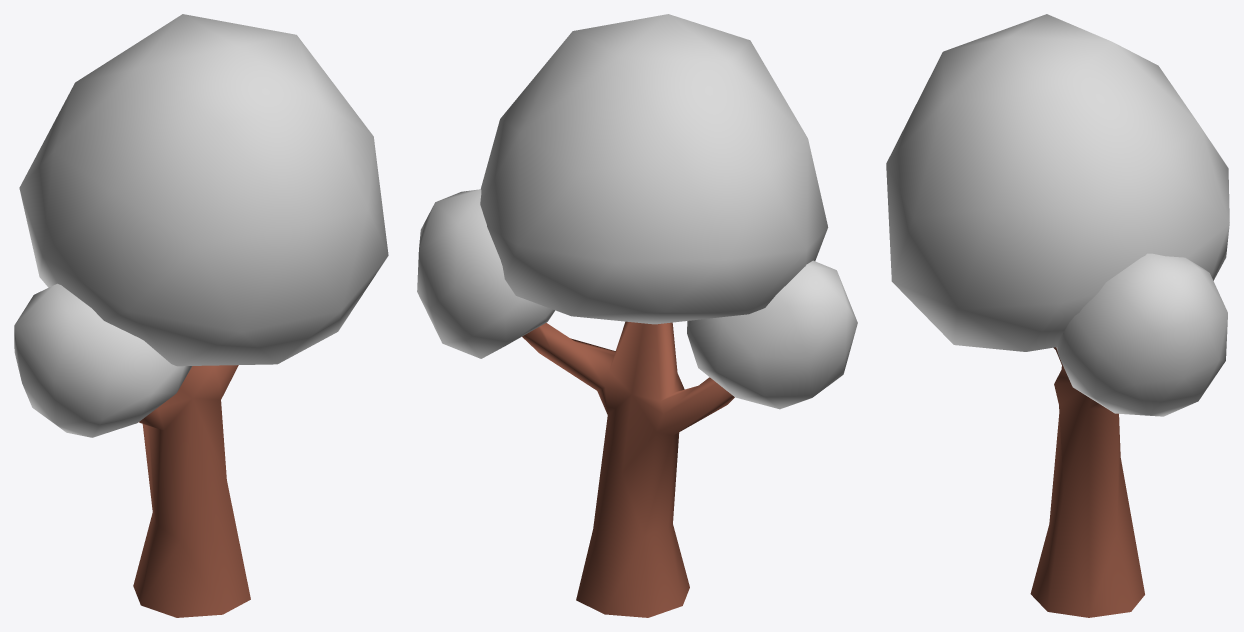
The model's file is detail_treeC.fbx.
3 views of the same model, side by side, from view 1: azimuth 30°, elevation 25°; view 2: azimuth 150°, elevation 25°; view 3: azimuth 270°, elevation 25° (orthographic). The views are drawn at different scales.
Parts seen in each view (by area): view 1: detail_treeC; view 2: detail_treeC; view 3: detail_treeC.
Boxes of the visible parts, x1,y1,x2,y2 form: detail_treeC: (14, 14, 388, 617); detail_treeC: (417, 14, 857, 617); detail_treeC: (886, 14, 1229, 617).
Size of the model in its own units: 53.56 by 75.74 by 42.17.
